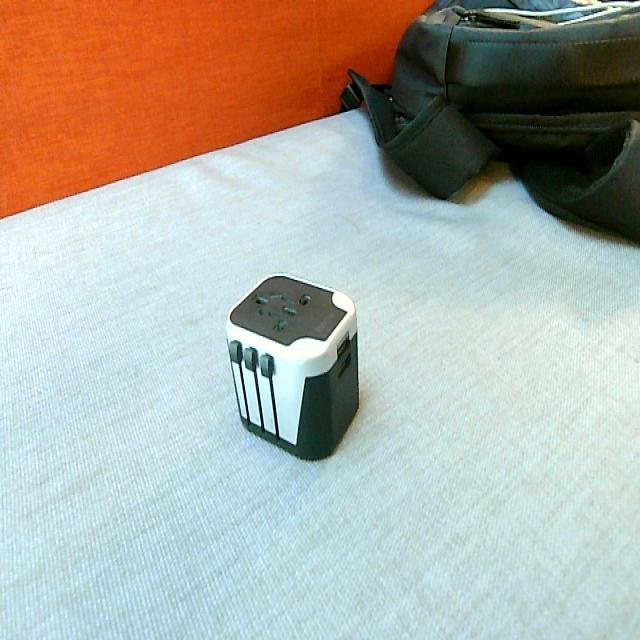adapter: (224, 271, 359, 460)
